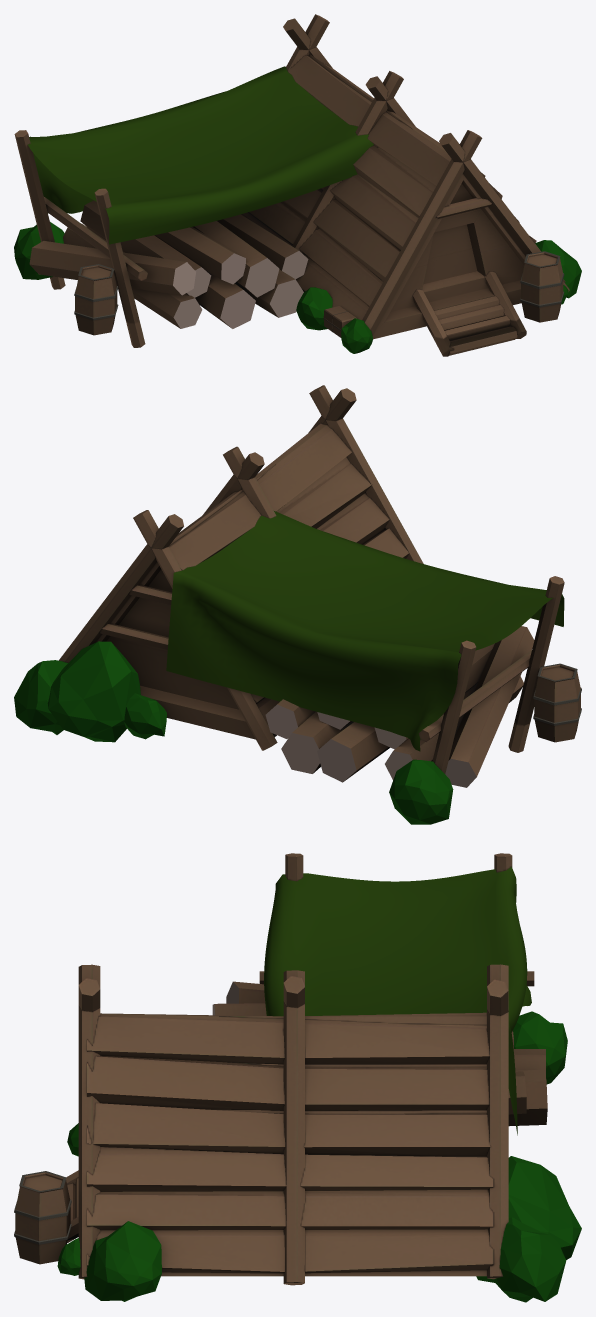
Rendered from woodCamp.85ab8aaa.gltf.
3 renders of one model, top to bottom at view 1: azimuth 30°, elevation 25°; view 2: azimuth 150°, elevation 25°; view 3: azimuth 270°, elevation 25°, orthographic. The views are drawn at different scales.
Visible parts, largest first — view 1: Cube.002; view 2: Cube.002; view 3: Cube.002.
Part boxes in pixels (left/top/right/bottom): Cube.002: left=14, top=14, right=581, bottom=356; Cube.002: left=14, top=385, right=581, bottom=824; Cube.002: left=14, top=853, right=581, bottom=1302.
Bounding box in the file's own units: 8.82 × 4.13 × 7.6.
Materials: 5 (1 with a texture image).
